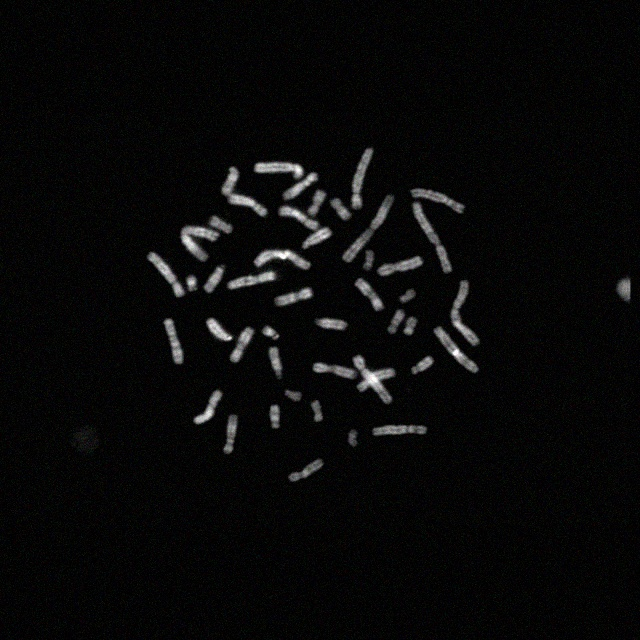chromosome: (342, 195, 396, 263), (412, 202, 452, 274), (434, 326, 478, 372), (450, 280, 480, 346), (352, 356, 392, 404), (147, 252, 185, 298), (352, 148, 374, 210), (179, 226, 219, 260), (412, 188, 464, 212), (253, 250, 310, 270), (162, 318, 184, 364), (282, 172, 318, 200), (357, 368, 397, 392), (194, 390, 222, 424), (378, 256, 424, 276), (280, 206, 318, 230), (229, 192, 267, 216), (227, 272, 277, 290), (355, 278, 383, 310), (255, 162, 303, 180), (230, 326, 254, 362), (288, 459, 324, 481), (312, 363, 356, 379), (275, 288, 313, 306), (302, 228, 332, 248), (203, 264, 224, 292), (207, 318, 233, 340), (374, 425, 426, 435), (224, 414, 236, 454), (222, 167, 238, 197), (308, 190, 326, 216), (315, 317, 347, 331), (209, 216, 233, 234), (332, 199, 351, 221), (269, 348, 283, 377), (388, 309, 404, 333), (412, 356, 432, 374), (262, 326, 280, 340), (400, 289, 416, 303), (362, 250, 373, 270), (270, 406, 280, 428), (283, 390, 301, 402), (312, 401, 322, 422), (404, 318, 416, 334), (187, 276, 197, 292), (348, 430, 357, 446)
